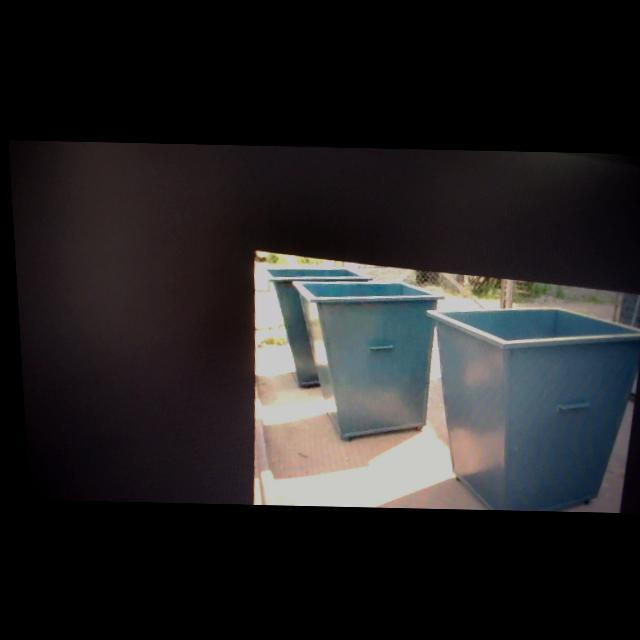Trash_Can_Empty: (423, 301, 640, 511), (289, 277, 446, 440), (262, 264, 376, 390)
